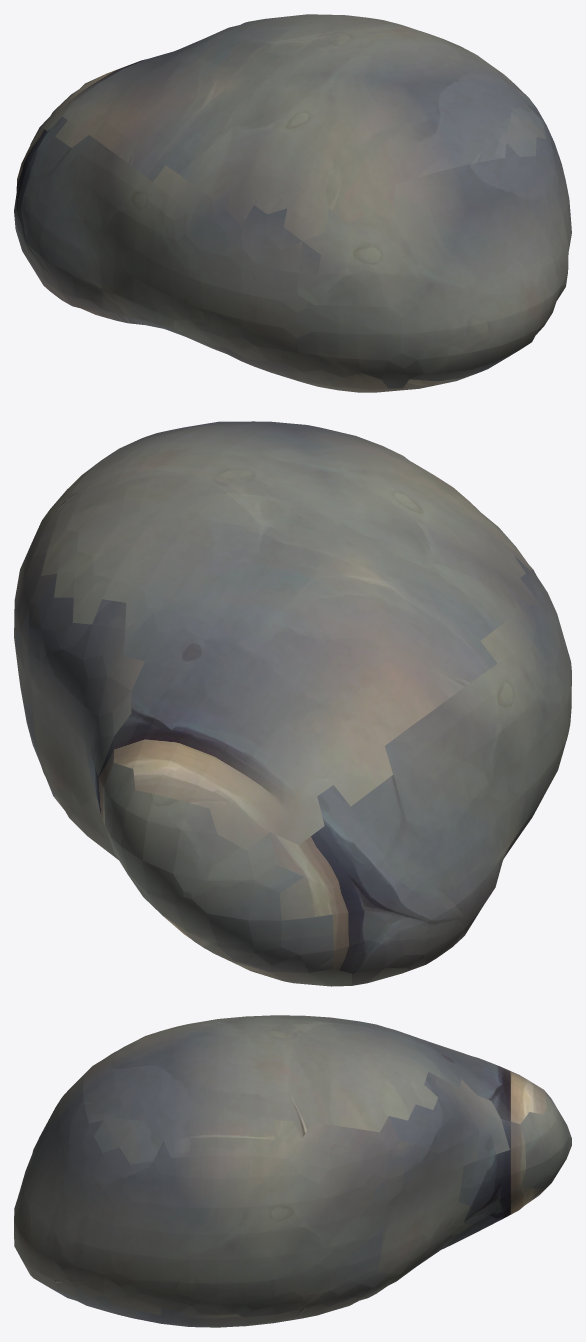
File: mossy_stone1_s8136.gltf
3 views of the same model, one above another, from view 1: azimuth 30°, elevation 25°; view 2: azimuth 150°, elevation 25°; view 3: azimuth 270°, elevation 25° (orthographic). The views are drawn at different scales.
Parts seen in each view (by area): view 1: mossy_stone1_s8136_stone_LOD0; view 2: mossy_stone1_s8136_stone_LOD0; view 3: mossy_stone1_s8136_stone_LOD0.
Boxes of the visible parts, bbox=[...] form: mossy_stone1_s8136_stone_LOD0: bbox=[14, 14, 571, 392]; mossy_stone1_s8136_stone_LOD0: bbox=[14, 421, 571, 986]; mossy_stone1_s8136_stone_LOD0: bbox=[14, 1015, 571, 1327].
Size of what is drawn, in the model's own units: 0.5412 by 0.3797 by 0.6905.
1 material, 1 textured.
